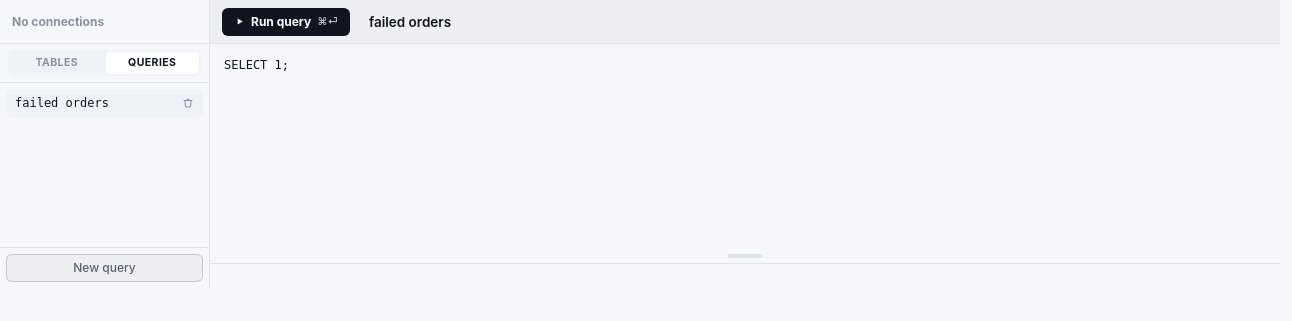
QueryTab › surfaces a failed run as an error and stages nothing
Click the button "Run query ⌘⏎" at x=286, y=22, box [222,8,350,36]
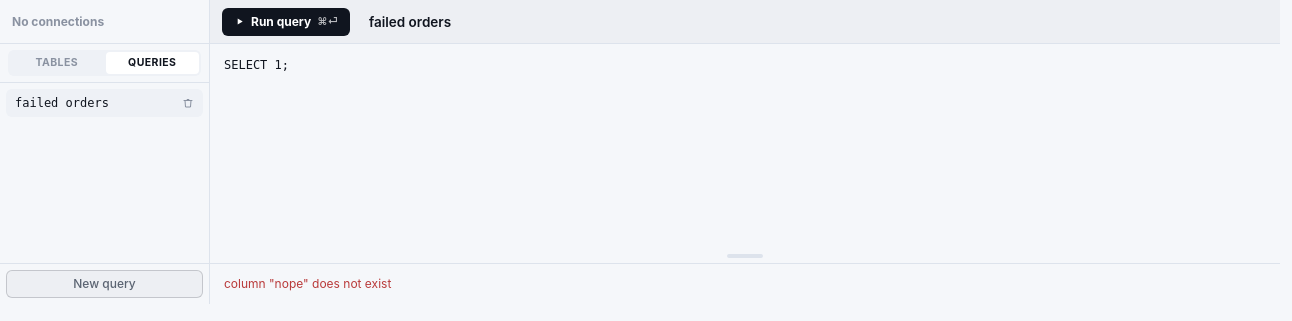
Expected: the text "column \"nope\" does not exist" is shown, [224,276,391,291]
